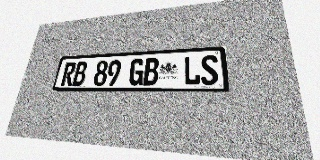8: (93, 60, 109, 86)
9: (106, 60, 122, 86)
B: (143, 58, 159, 85), (72, 61, 88, 86)
G: (128, 58, 145, 86)
L: (184, 56, 200, 85)
R: (61, 62, 77, 86)
S: (200, 55, 219, 85)
